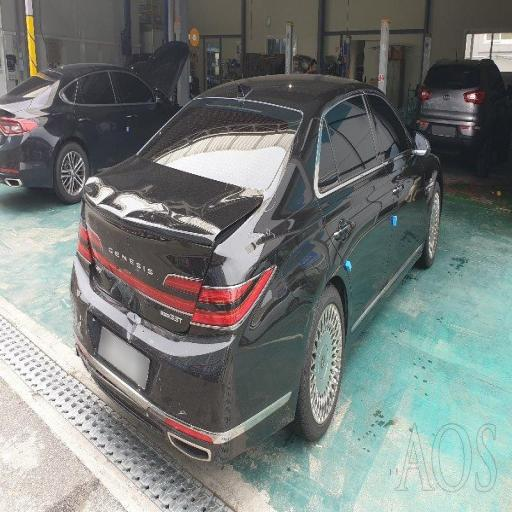dent: (125, 170, 266, 290)
scratch: (74, 282, 252, 457)
